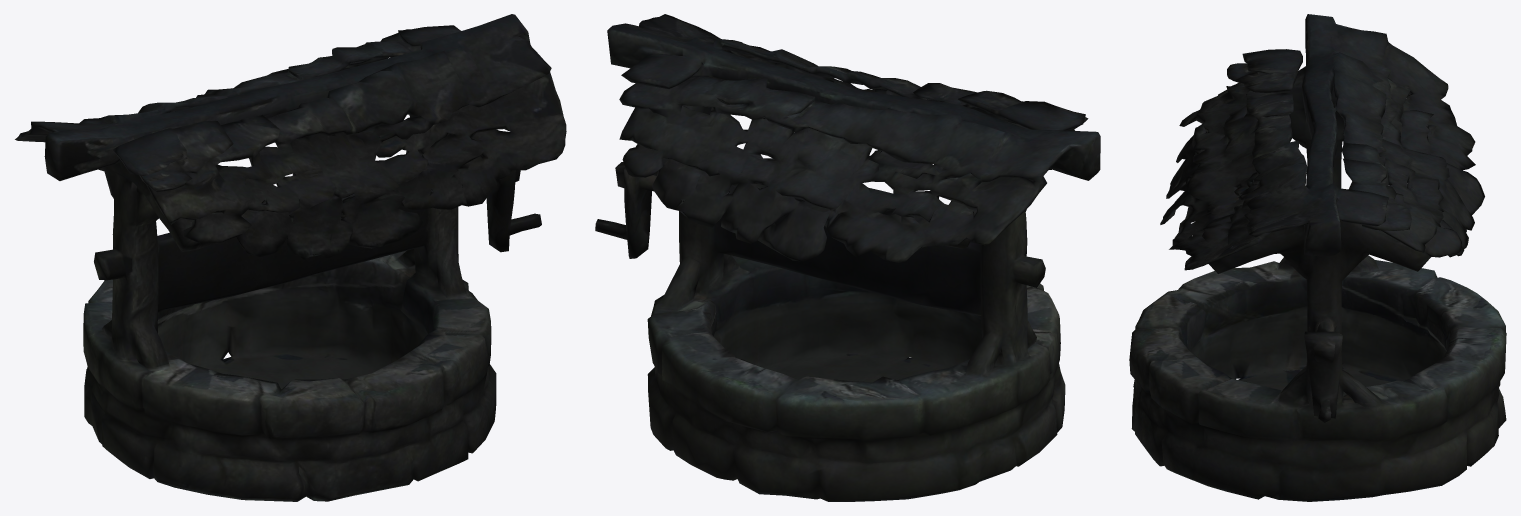
The model's file is scatter_02.glb.
3 views of the same model, side by side, from view 1: azimuth 30°, elevation 25°; view 2: azimuth 150°, elevation 25°; view 3: azimuth 270°, elevation 25° (orthographic). The views are drawn at different scales.
Size of the model in its own units: 2 by 1.34 by 1.46.
Materials: 1 (1 with a texture image).
